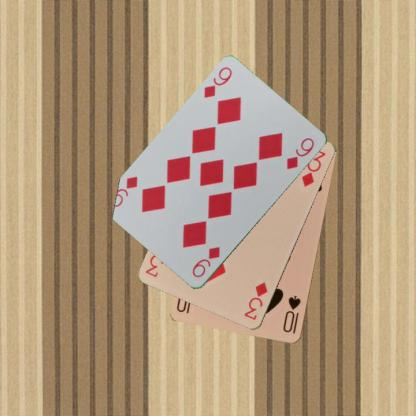10s: (280, 293, 302, 335)
3d: (241, 280, 269, 322)
9d: (201, 64, 233, 100), (190, 245, 222, 280)
